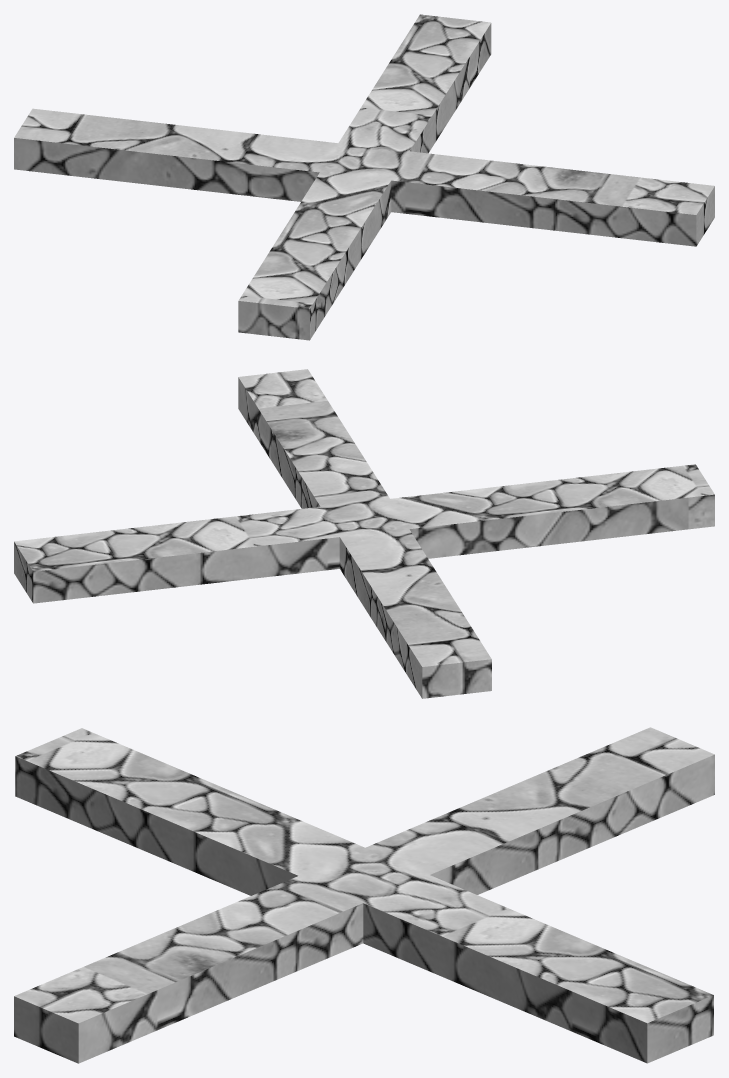
Rendered from switch_tile.obj.
The picture shows the model from 3 angles, top to bottom: view 1: azimuth 30°, elevation 25°; view 2: azimuth 150°, elevation 25°; view 3: azimuth 270°, elevation 25°; orthographic projection. The views are drawn at different scales.
Parts seen in each view (by area): view 1: Cube_Cube.002; view 2: Cube_Cube.002; view 3: Cube_Cube.002.
Boxes of the visible parts, <box> form: Cube_Cube.002: <box>14,14,714,340</box>; Cube_Cube.002: <box>14,369,714,698</box>; Cube_Cube.002: <box>14,727,714,1063</box>.
Bounding box in the file's own units: 1.91 × 0.1213 × 1.91.
1 material, 1 textured.
